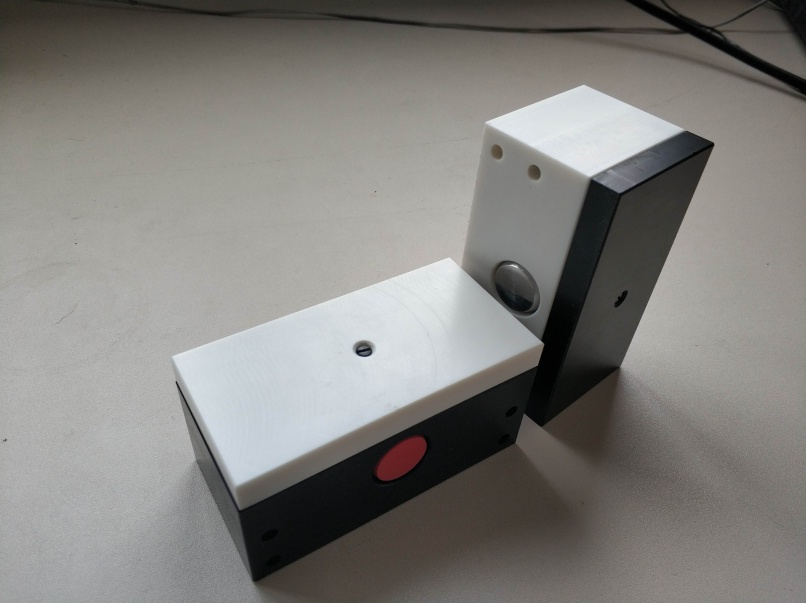black+white+silver: (460, 81, 718, 430)
white+black+red: (167, 254, 545, 584)
